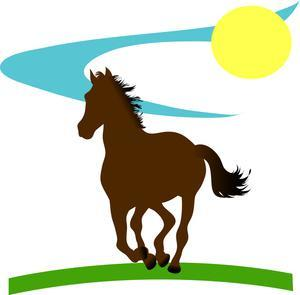horse: (60, 65, 245, 276)
